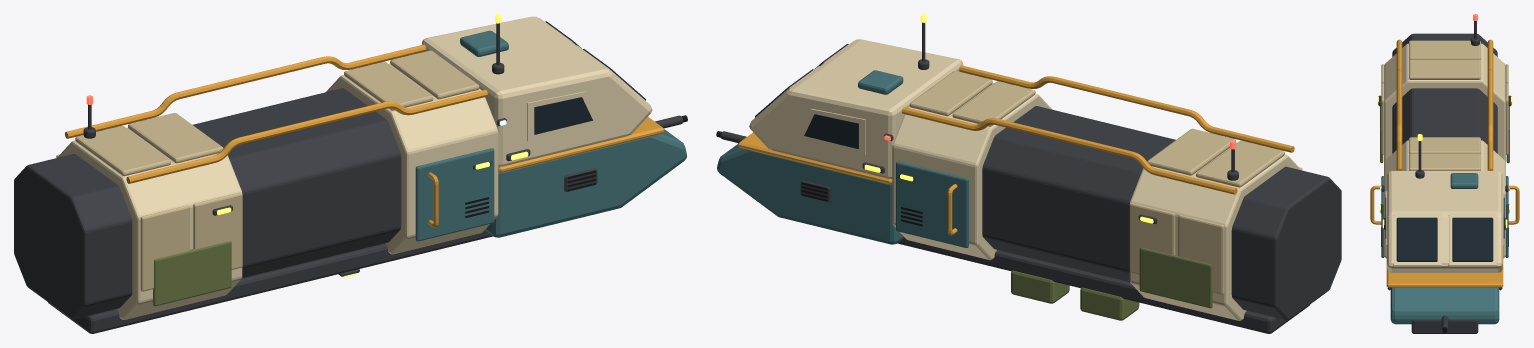
The model's file is far-treasure.glb.
3 views of the same model, side by side, from view 1: azimuth 30°, elevation 25°; view 2: azimuth 150°, elevation 25°; view 3: azimuth 270°, elevation 25° (orthographic). The views are drawn at different scales.
Parts seen in each view (by area): view 1: hull body; view 2: hull body; view 3: hull body.
Boxes of the visible parts, x1=… form: hull body: x1=14, y1=16, x2=686, y2=333; hull body: x1=717, y1=22, x2=1341, y2=333; hull body: x1=1370, y1=21, x2=1519, y2=333.
Size of the model in its own units: 9.8 by 3.52 by 2.69.
